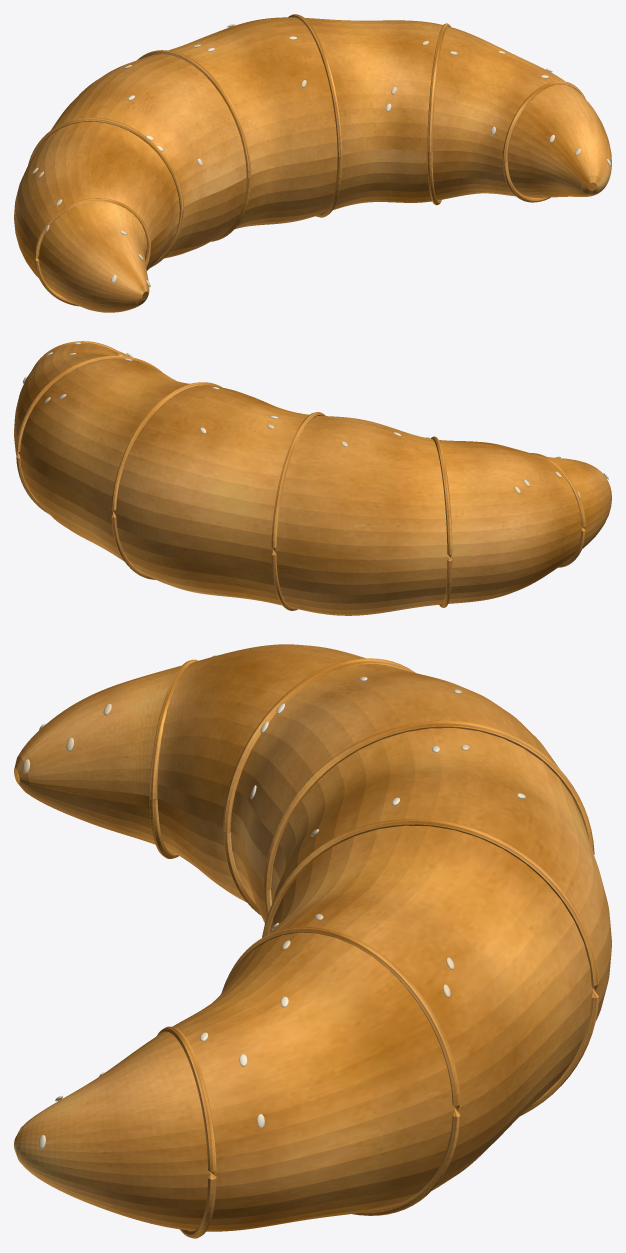
Rendered from croissant-cartoon.glb.
The picture shows the model from 3 angles, top to bottom: view 1: azimuth 30°, elevation 25°; view 2: azimuth 150°, elevation 25°; view 3: azimuth 270°, elevation 25°; orthographic projection. The views are drawn at different scales.
Size of the model in its own units: 2.3 by 0.7374 by 1.27.
Materials: 3 (1 with a texture image).
